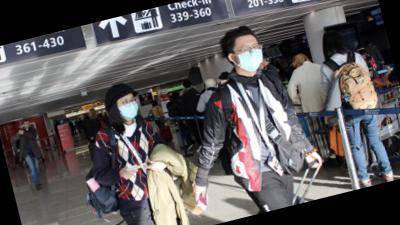with_mask: (234, 41, 266, 75), (116, 95, 142, 123)
without_mask: (24, 122, 32, 128)
